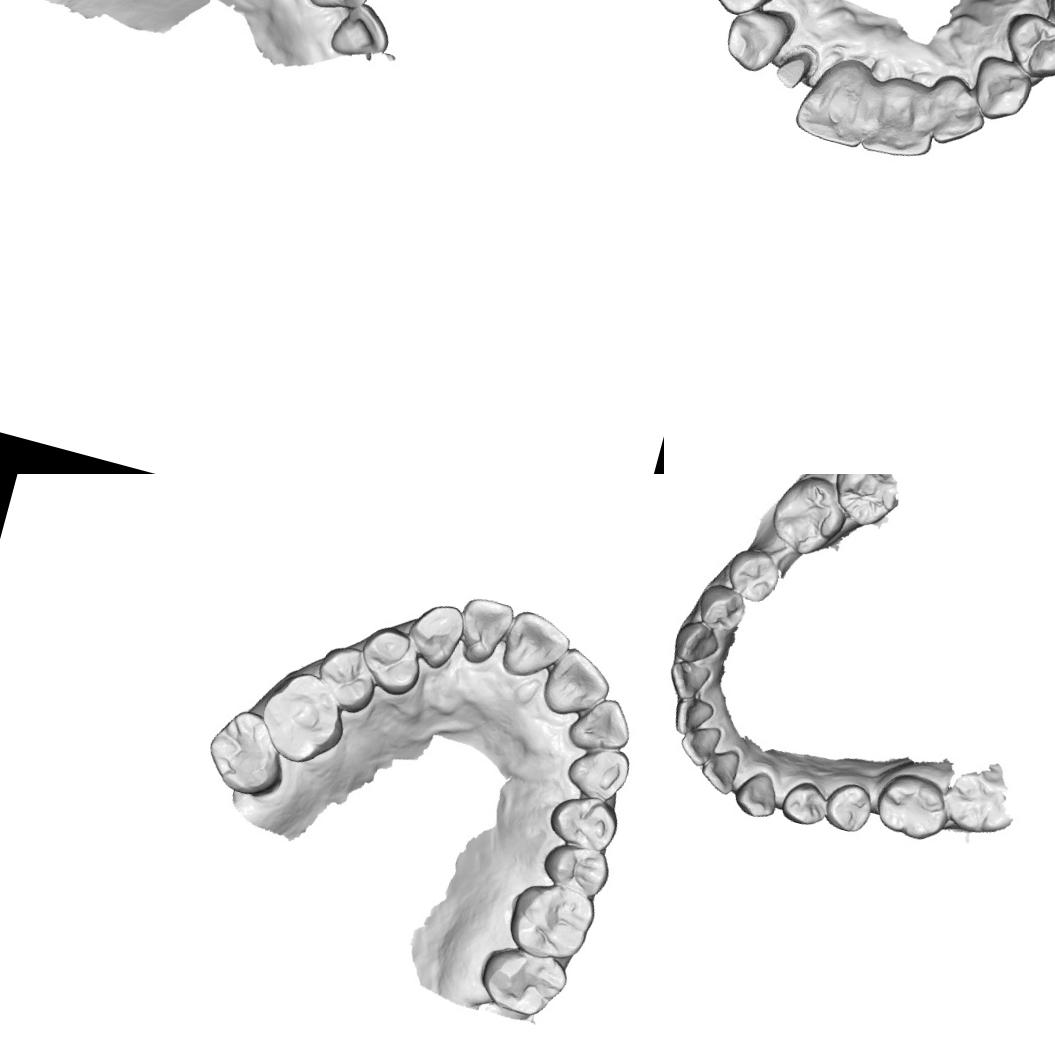canine: (717, 0, 798, 80), (401, 594, 473, 676), (558, 734, 636, 809), (966, 52, 1038, 128), (728, 764, 784, 824), (668, 616, 724, 668)
crown: (770, 43, 816, 94)
incisor: (790, 46, 886, 152), (858, 69, 945, 167), (493, 603, 577, 690), (538, 640, 618, 725), (917, 70, 995, 154), (562, 686, 639, 762), (451, 589, 517, 670), (325, 0, 398, 67), (695, 740, 745, 797), (674, 718, 724, 771), (664, 655, 713, 705), (668, 692, 716, 741), (303, 0, 377, 18)
molar: (250, 662, 357, 772), (198, 701, 296, 803), (499, 873, 601, 968), (472, 938, 572, 1024), (763, 474, 856, 564), (868, 764, 956, 846), (939, 766, 1017, 841), (822, 474, 908, 535)
premolar: (352, 621, 431, 702), (311, 636, 386, 718), (542, 784, 625, 857), (536, 834, 616, 902), (995, 6, 1055, 87), (720, 542, 786, 607), (820, 776, 878, 837), (689, 578, 750, 636), (776, 774, 834, 832), (705, 0, 788, 25)
